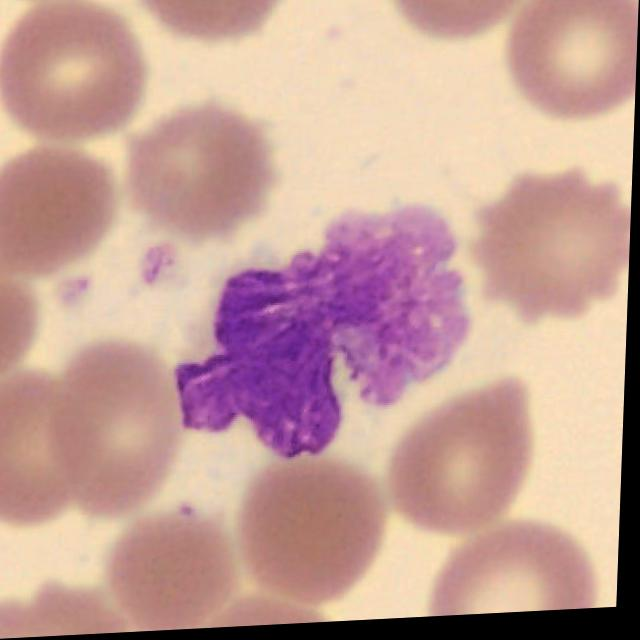Restos celulares: (179, 208, 474, 465)
